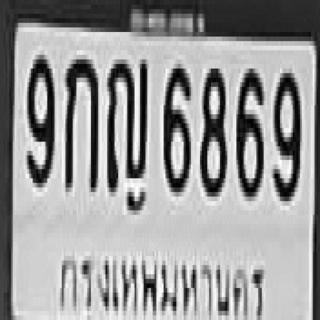A01: (64, 55, 96, 188)
A13: (106, 53, 146, 190)
N06: (162, 59, 189, 188), (235, 64, 262, 192)
N08: (198, 64, 225, 192)
N09: (25, 50, 53, 183), (271, 68, 298, 196)
P04: (54, 237, 276, 320)
